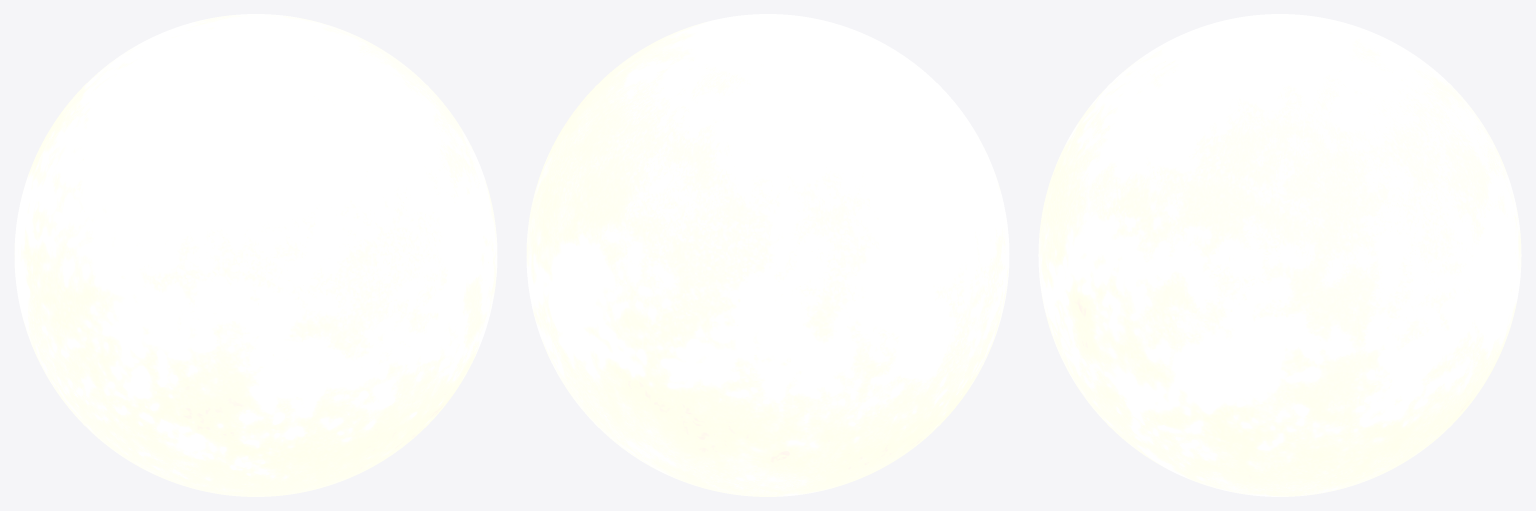
The model's file is Solesito.gltf.
The picture shows the model from 3 angles, left to right: view 1: azimuth 30°, elevation 25°; view 2: azimuth 150°, elevation 25°; view 3: azimuth 270°, elevation 25°; orthographic projection.
Visible parts, largest first — view 1: Sphere; view 2: Sphere; view 3: Sphere.
Boxes of the visible parts, x1,y1,x2,y2 form: Sphere: [14, 14, 497, 496]; Sphere: [526, 14, 1009, 496]; Sphere: [1038, 14, 1521, 496].
Size of the model in its own units: 2 by 2 by 2.
Materials: 1 (1 with a texture image).
